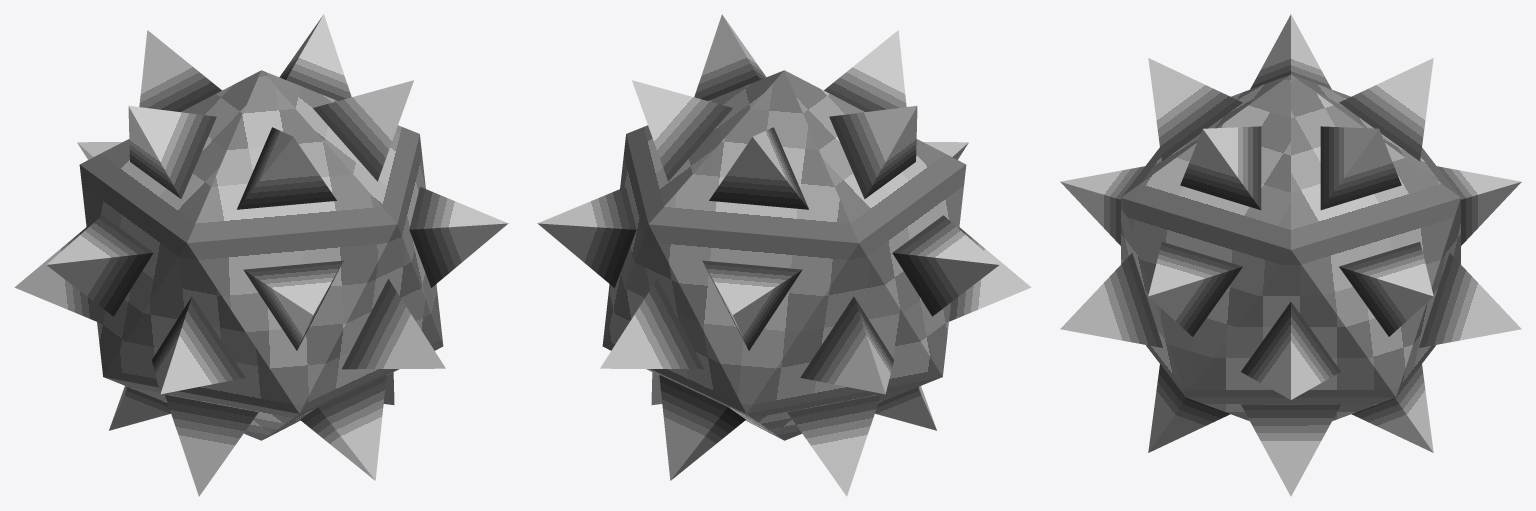
Rendered from Mine.fbx.
3 renders of one model, left to right at view 1: azimuth 30°, elevation 25°; view 2: azimuth 150°, elevation 25°; view 3: azimuth 270°, elevation 25°, orthographic. The views are drawn at different scales.
Visible parts, largest first — view 1: Mine; view 2: Mine; view 3: Mine.
Part boxes in pixels (box(x1,y1,x2,y2)): Mine: box(14, 14, 508, 496); Mine: box(537, 14, 1031, 496); Mine: box(1060, 14, 1521, 496).
Bounding box in the file's own units: 243 × 200 × 231.
